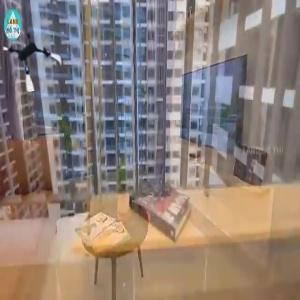drone: (2, 29, 67, 94)
